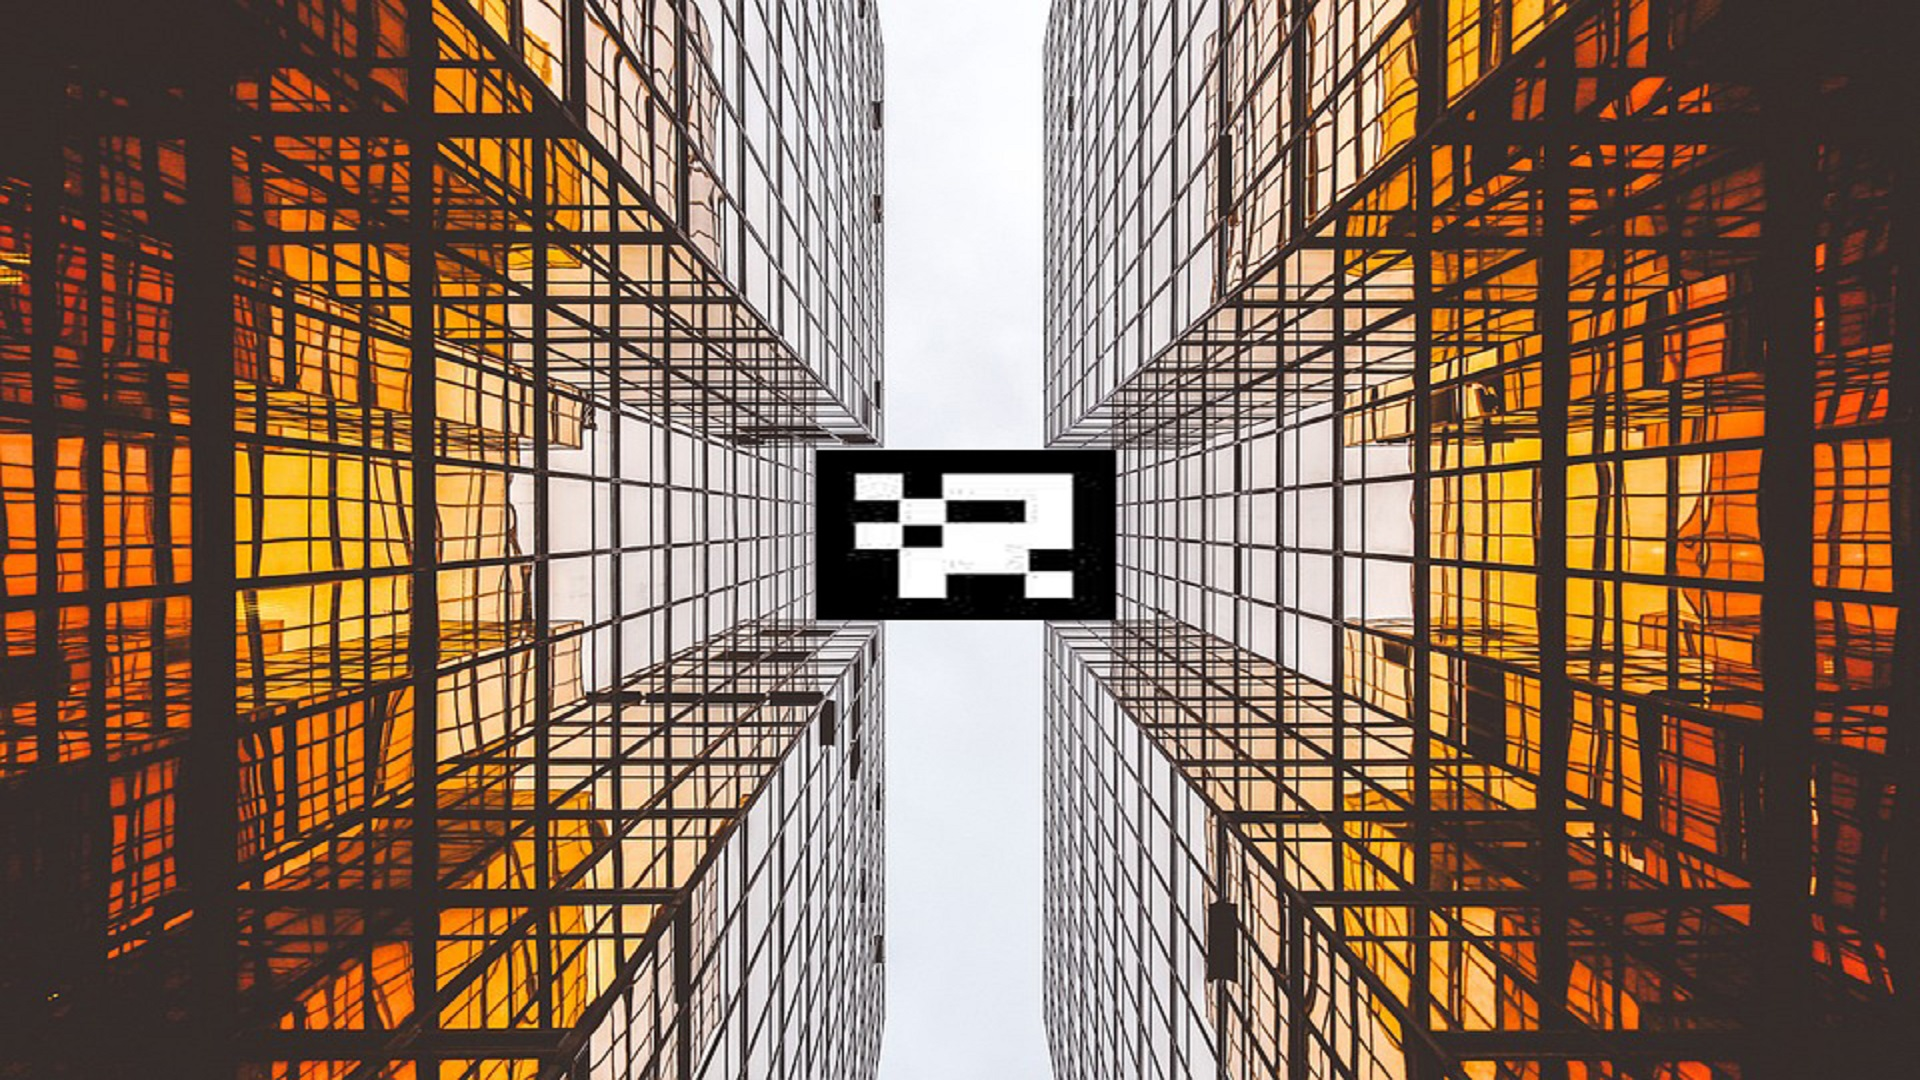marker: (811, 446, 1118, 625)
